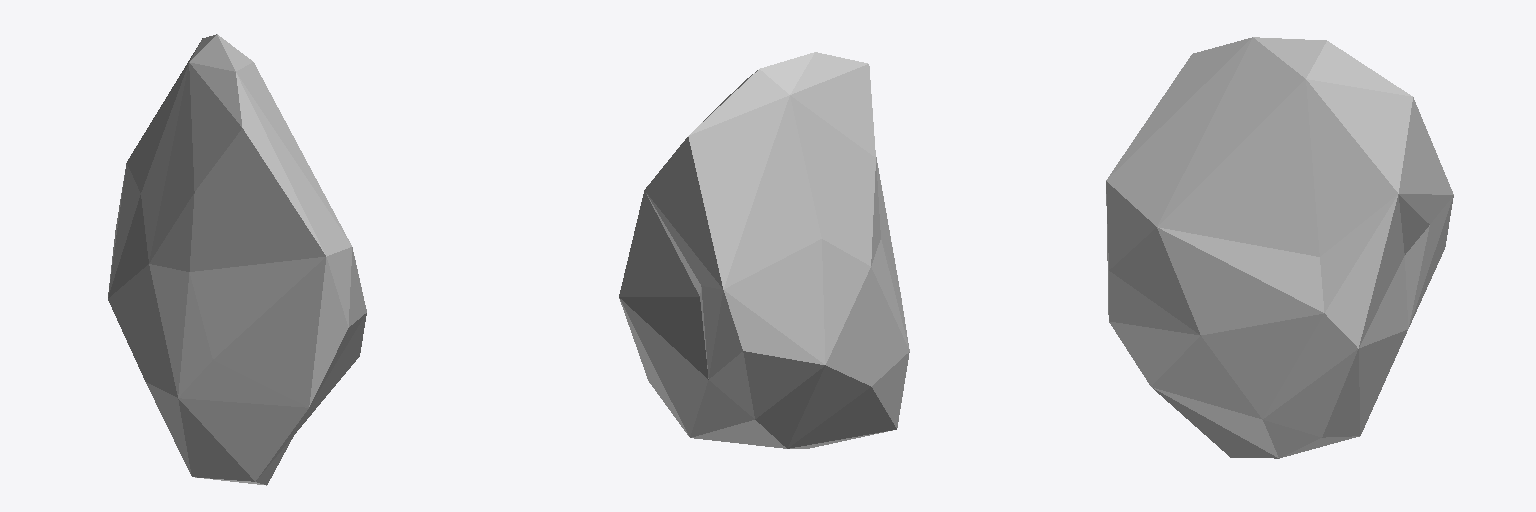
File: MeleeCollider.obj
3 renders of one model, left to right at view 1: azimuth 30°, elevation 25°; view 2: azimuth 150°, elevation 25°; view 3: azimuth 270°, elevation 25°, orthographic.
Parts seen in each view (by area): view 1: Cube; view 2: Cube; view 3: Cube.
Boxes of the visible parts, x1=… form: Cube: x1=108, y1=34, x2=366, y2=485; Cube: x1=619, y1=52, x2=909, y2=448; Cube: x1=1106, y1=37, x2=1453, y2=458.
Size of the model in its own units: 1.1 by 1.99 by 1.5.